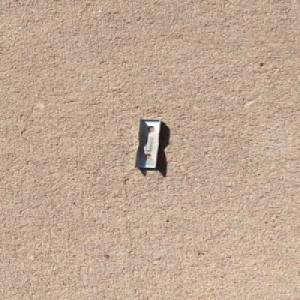ClampPart: (133, 115, 164, 169)
